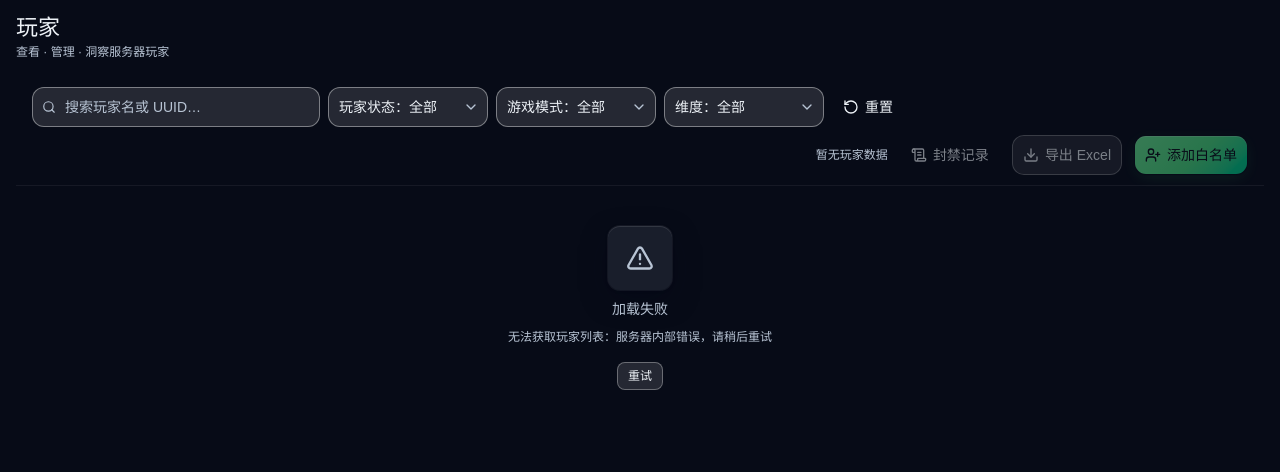
Test: PlayersPage › 列表加载失败：错误态替换整张表（不呈现为「暂无在线玩家」），可重试
expect the text "加载失败" is shown: met, box 612,298 -> 668,320
expect the text "无法获取玩家列表：服务器内部错误，请稍后重试" is shown: met, box 508,328 -> 772,346
Click the button "重试": (640, 376) 617,362 -> 663,390
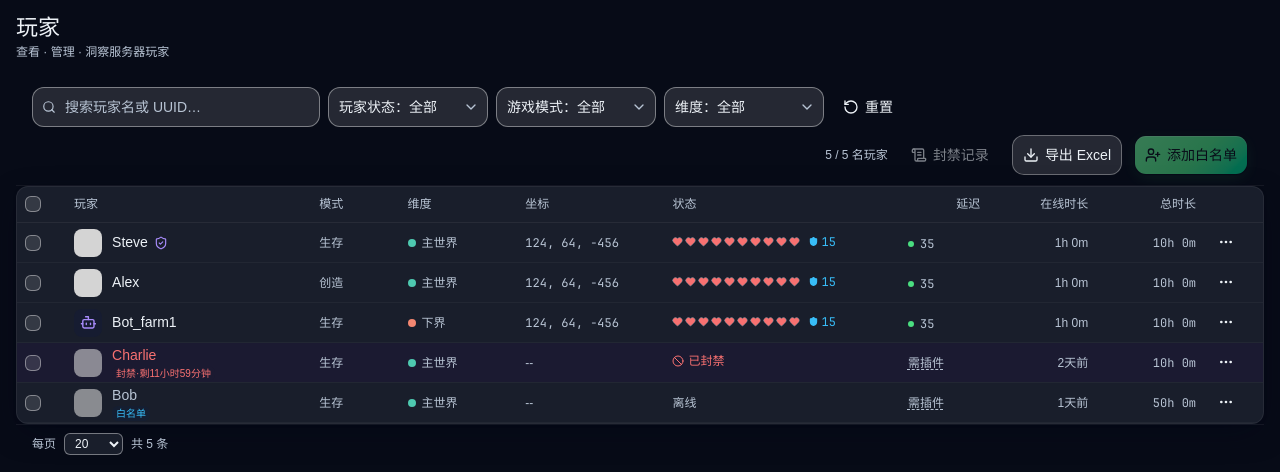
expect the button "Steve" is shown: met, box 112,231 -> 148,254
